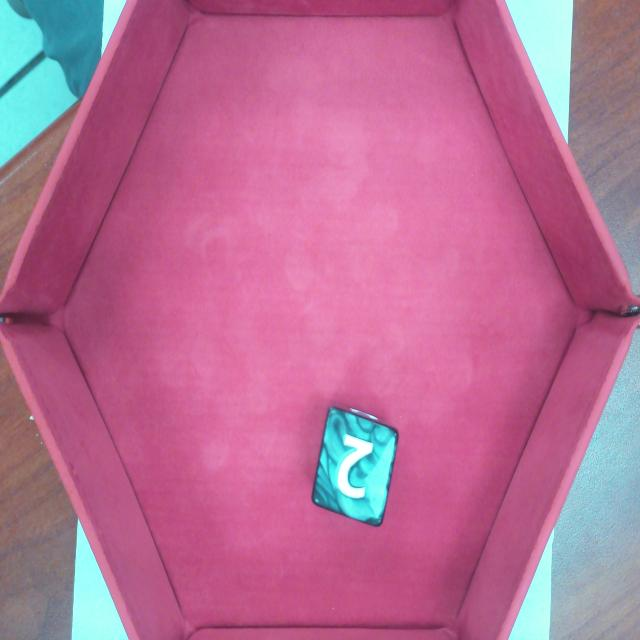dice: (308, 405, 401, 530)
